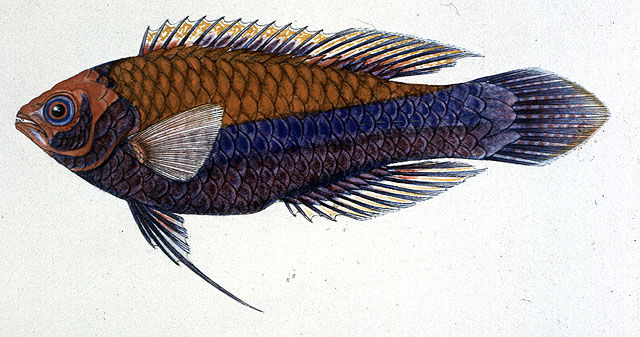fish: (15, 17, 611, 312)
